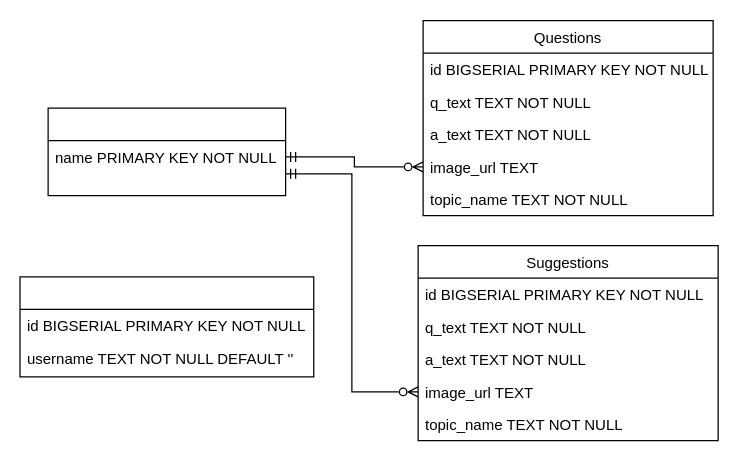
Image size: 739x461. Some labels were removed from this diagram. The shapes that lost their labels are listed below. From the top down, each one's box as (x1, y1, x2, y2) in pixels, then its label:
(47, 107, 286, 196): Topics
(19, 276, 314, 377): Users
